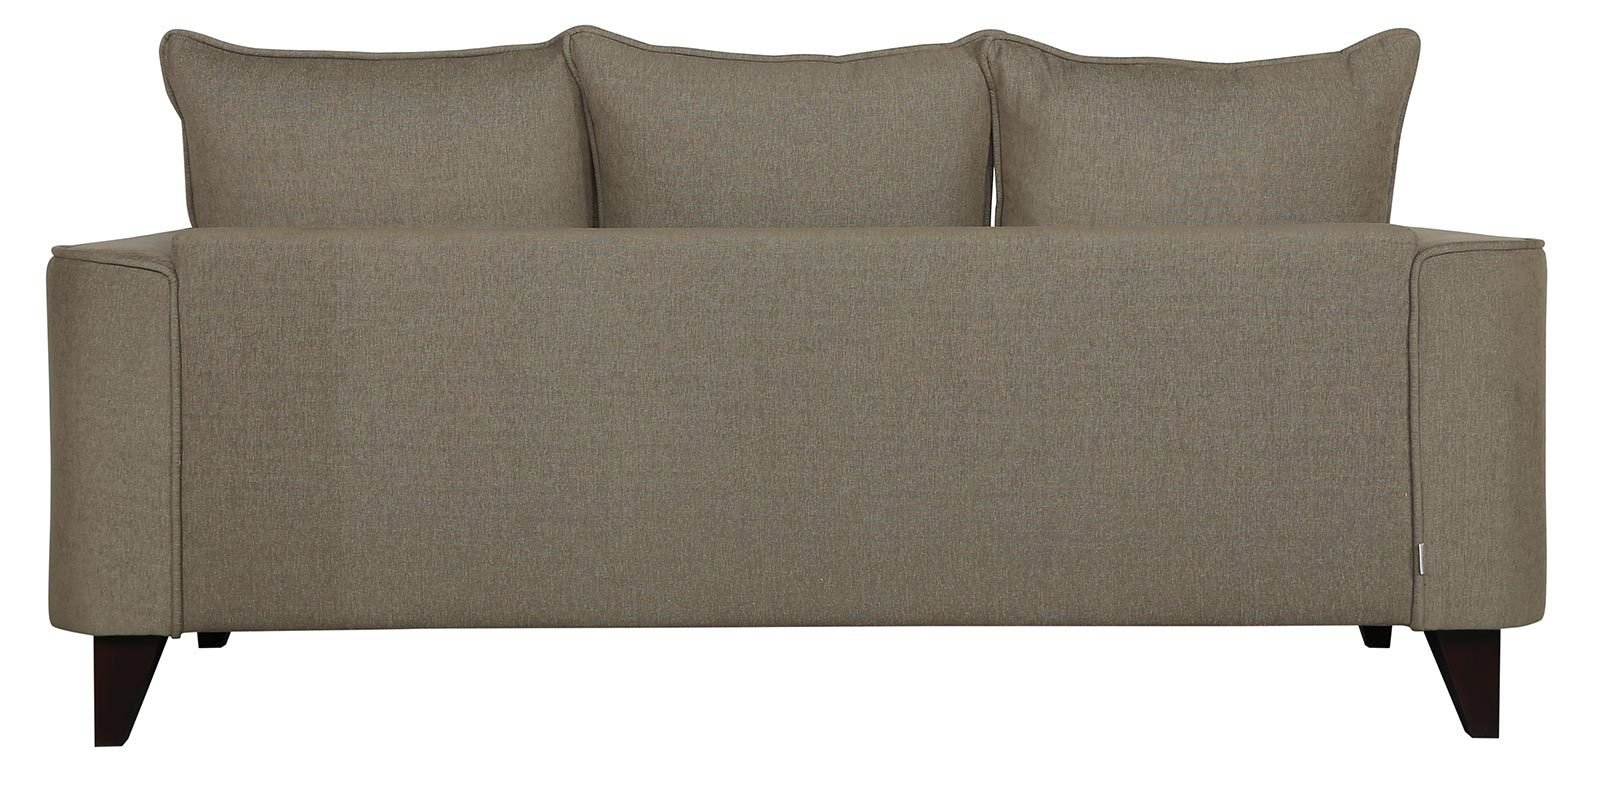Lara Three Seater Sofa in Sandy Brown Colour by CasaCraft: (48, 23, 1549, 747)
